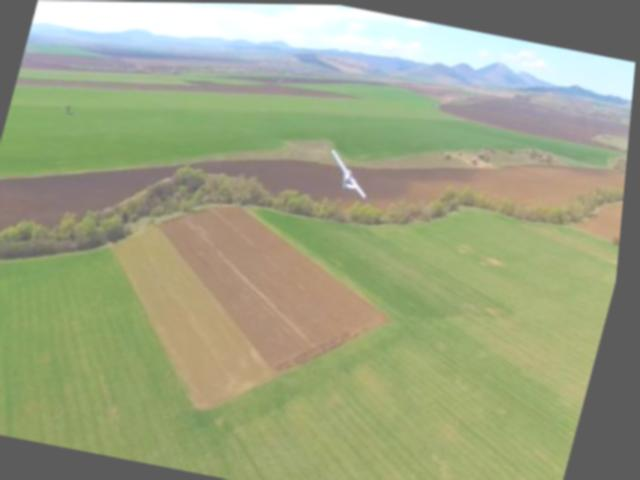uav: (319, 138, 386, 206)
